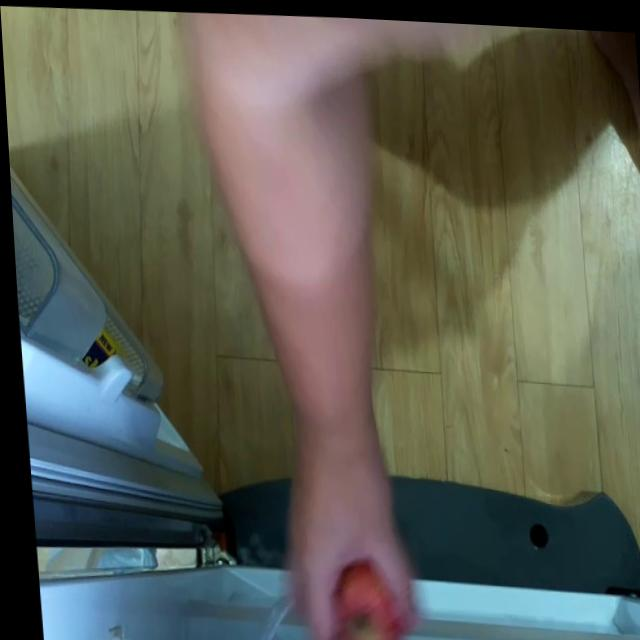apple: (311, 556, 402, 640)
